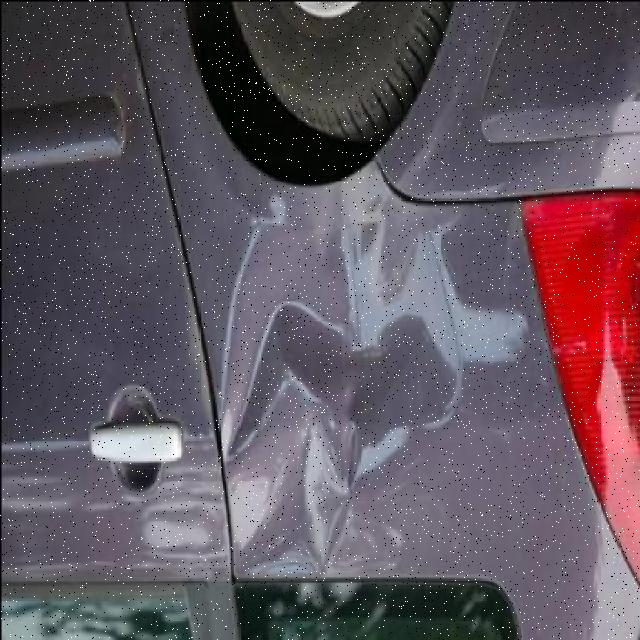damage: (216, 155, 466, 580)
